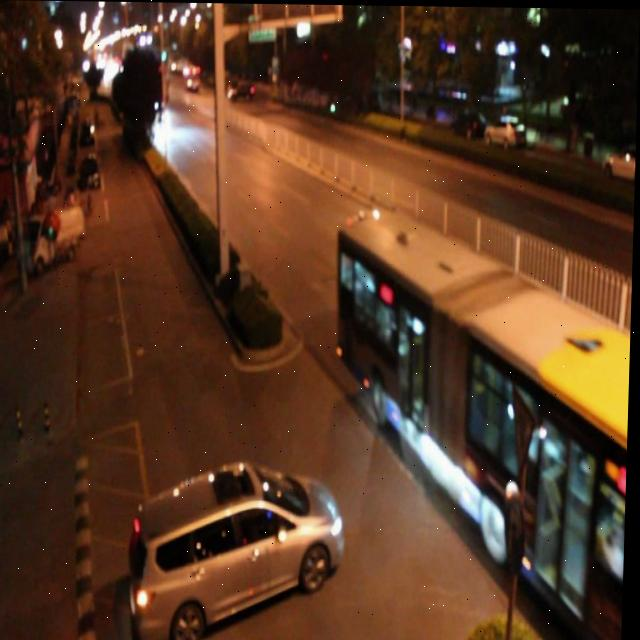car: (133, 457, 347, 640), (360, 218, 420, 278)
van: (328, 218, 635, 640)
